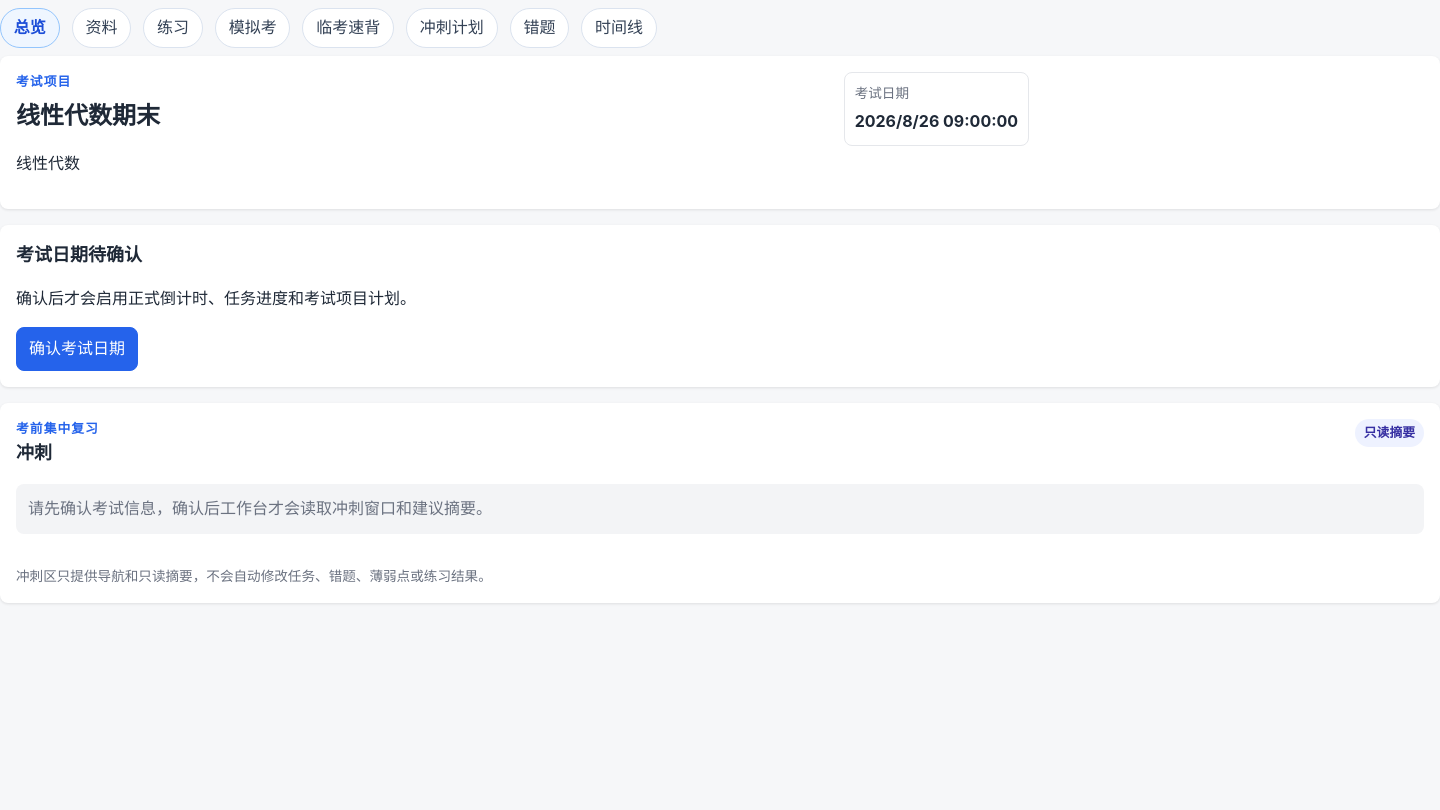
Scenario: ExamWorkbenchPage 考试项目闭环 › pending 考试只显示确认动作，确认后才显示正式计划
expect the element with test id "workbench-cram" shows "请先确认考试信息": met, box [28,498,492,518]
Click the button "确认考试日期" at [77, 349], box [16,327,138,371]
(page scrolled)
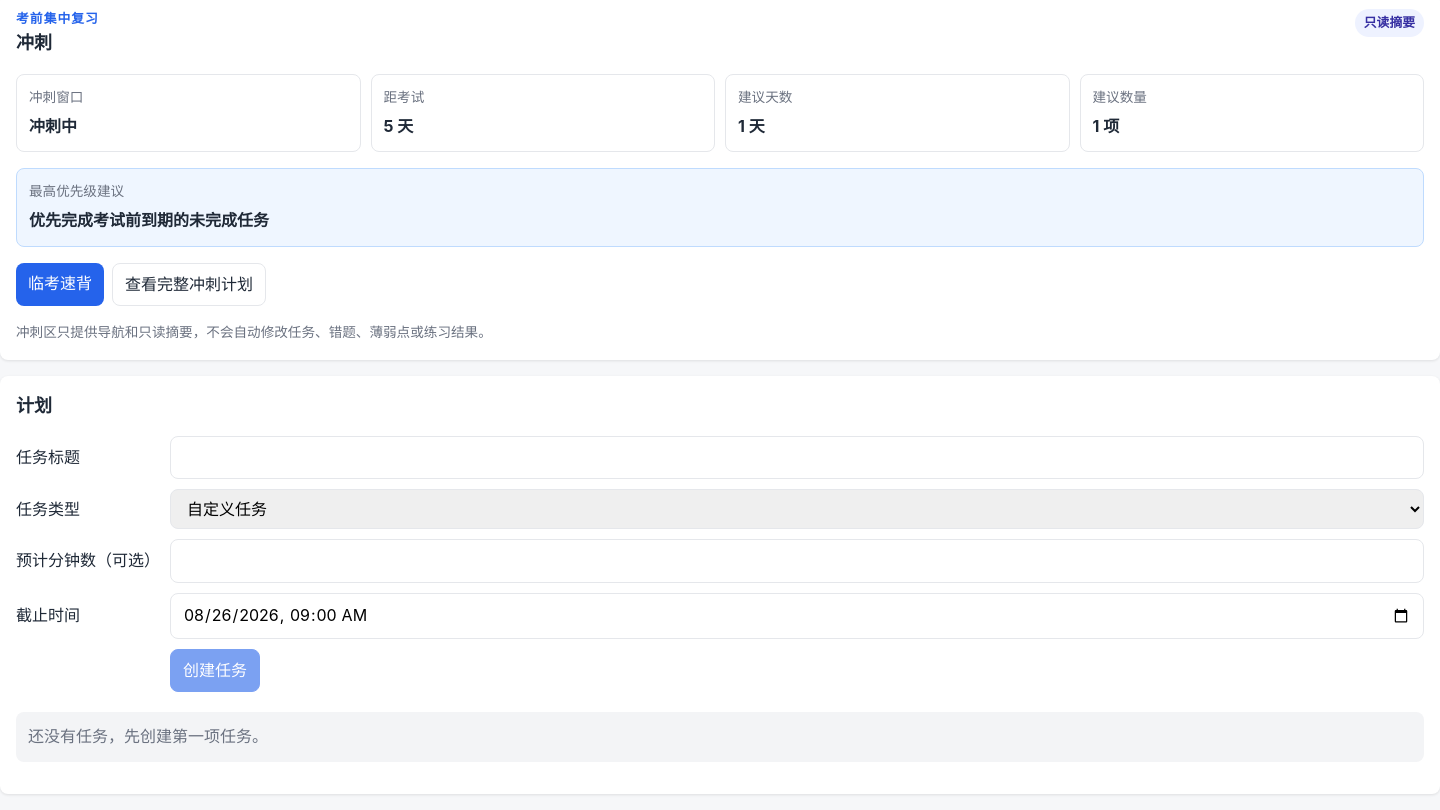
expect the element with test id "task-plan" is shown: met, box [0,376,1439,794]
